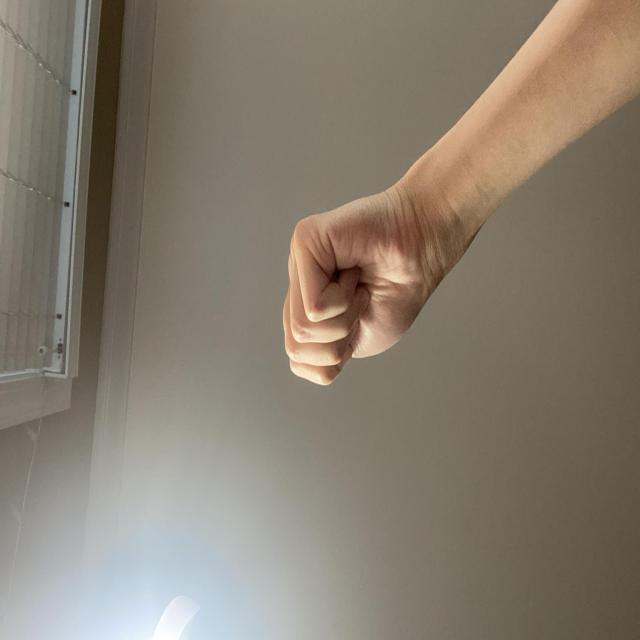M: (184, 368, 358, 612)
